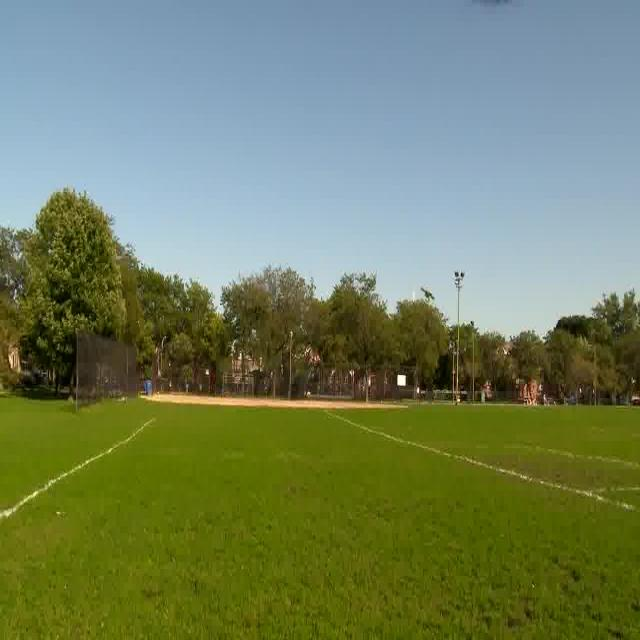drone: (416, 274, 440, 306)
